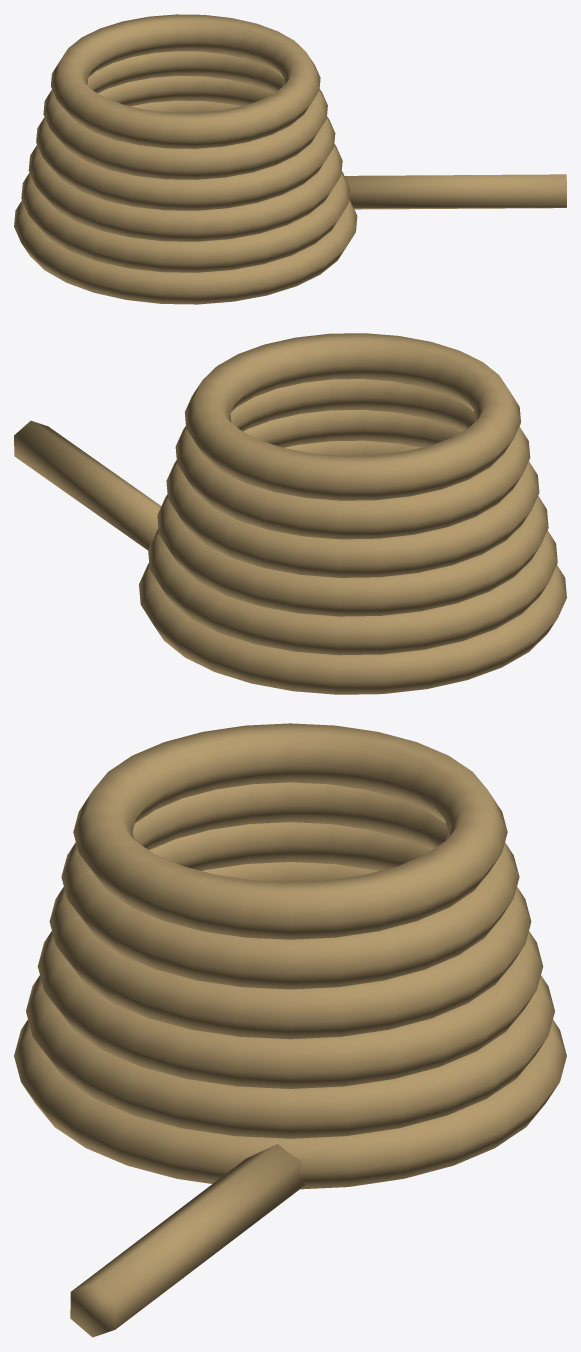
The model's file is taurolle.glb.
3 renders of one model, top to bottom at view 1: azimuth 30°, elevation 25°; view 2: azimuth 150°, elevation 25°; view 3: azimuth 270°, elevation 25°, orthographic. The views are drawn at different scales.
Parts seen in each view (by area): view 1: Torus; view 2: Torus; view 3: Torus.
Part boxes in pixels (<box>): Torus: <box>14,14,566,304</box>; Torus: <box>14,333,566,694</box>; Torus: <box>14,723,566,1337</box>.
Size of the model in its own units: 0.8927 by 0.311 by 0.56.
